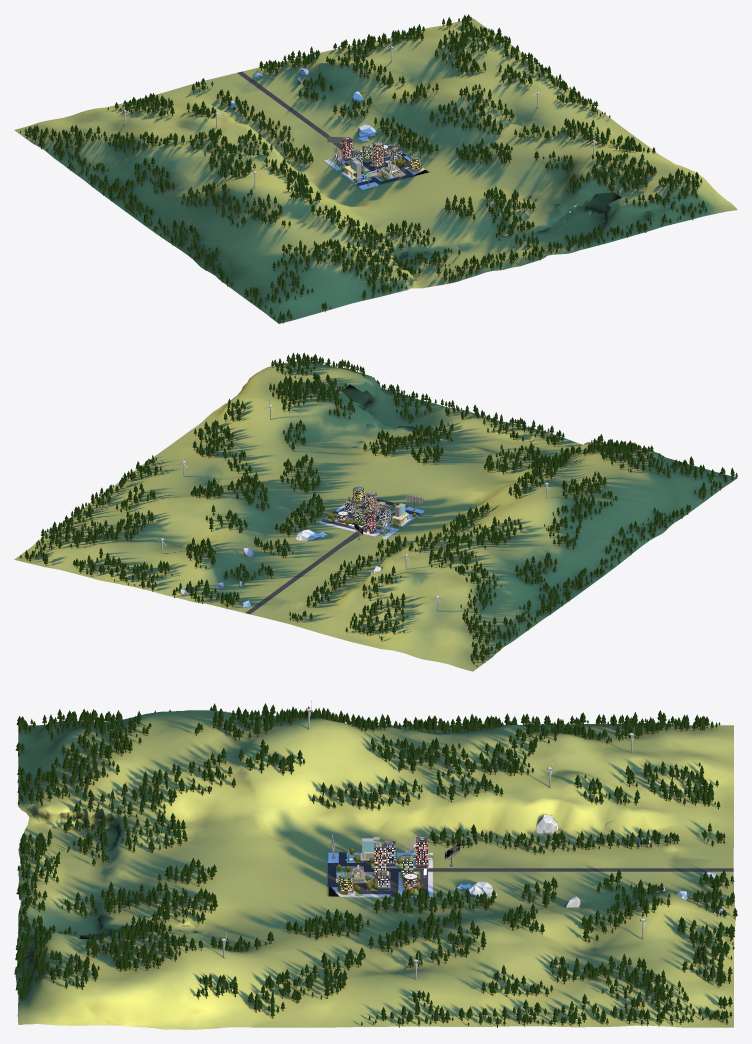
Rendered from isometric-cityscape13.glb.
3 renders of one model, top to bottom at view 1: azimuth 30°, elevation 25°; view 2: azimuth 150°, elevation 25°; view 3: azimuth 270°, elevation 25°, orthographic. The views are drawn at different scales.
Parts seen in each view (by area): view 1: Floor, PineTrees, CityBase.001; view 2: Floor, PineTrees, CityBase.001; view 3: Floor, PineTrees, CityBase.001.
Part boxes in pixels (<box>): Floor: <box>14,18,737,323</box>; PineTrees: <box>20,14,707,323</box>; CityBase.001: <box>228,54,414,185</box>; Floor: <box>14,361,737,671</box>; PineTrees: <box>20,352,737,667</box>; CityBase.001: <box>180,499,420,614</box>; Floor: <box>15,710,735,1029</box>; PineTrees: <box>14,703,737,1027</box>; CityBase.001: <box>328,814,733,915</box>.
Size of the model in its own units: 67.76 by 9.32 by 67.75.
100 materials, 10 textured.
